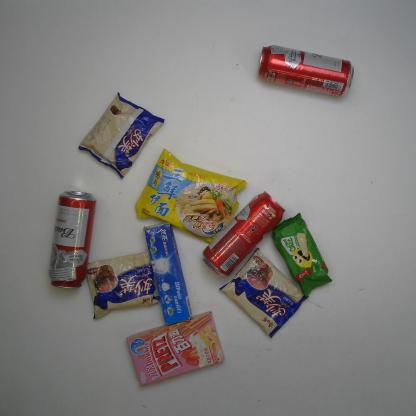Alcohol: (200, 189, 286, 279), (256, 43, 356, 99), (46, 188, 97, 292)
Dessert: (218, 245, 310, 340), (75, 90, 167, 179), (124, 309, 226, 388), (269, 210, 333, 300), (84, 248, 161, 320)
Instant Noodles: (133, 146, 249, 245)
Personal Hygiene: (142, 220, 193, 326)
